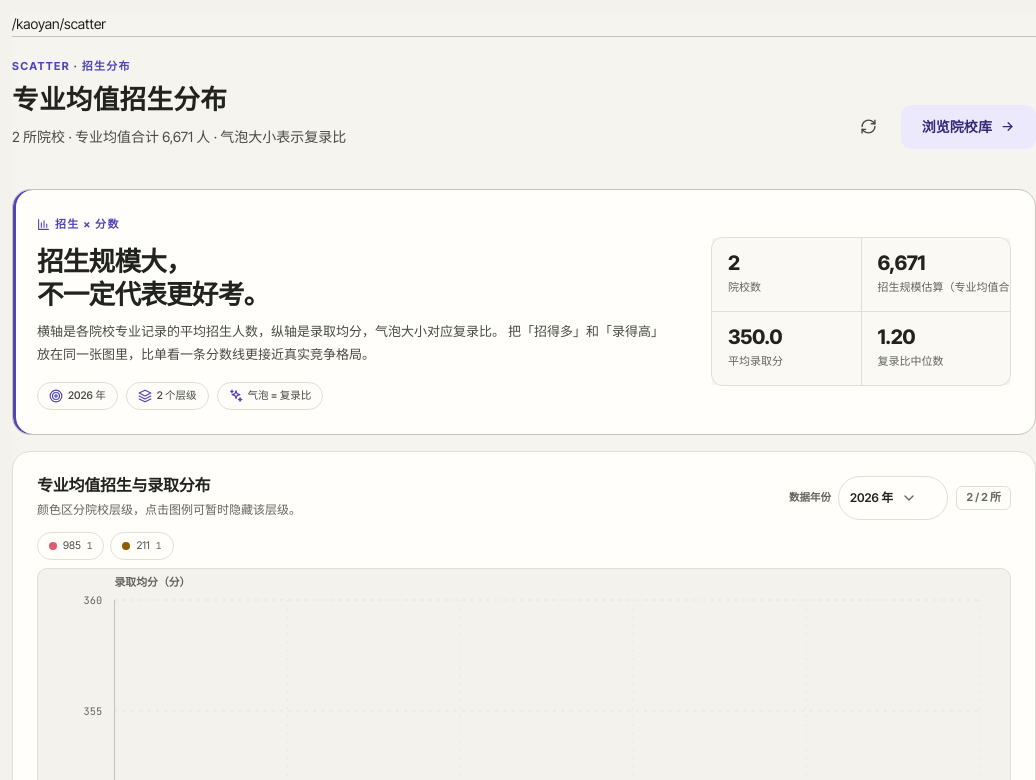
Test case: 散点页统计与明细 › 格式化人数，并在图例筛选后同步统计与明细
Expected: the text "2 所院校 · 专业均值合计 6,671 人 · 气泡大小表示复录比" is shown, [12,125,346,149]
Expected: the text "6,671" is shown, [878,252,925,276]
What coordinates should you click on to do the following:
click the button "211 1"
I would click on:
 (142, 546)
Its box is [110,532,174,560].
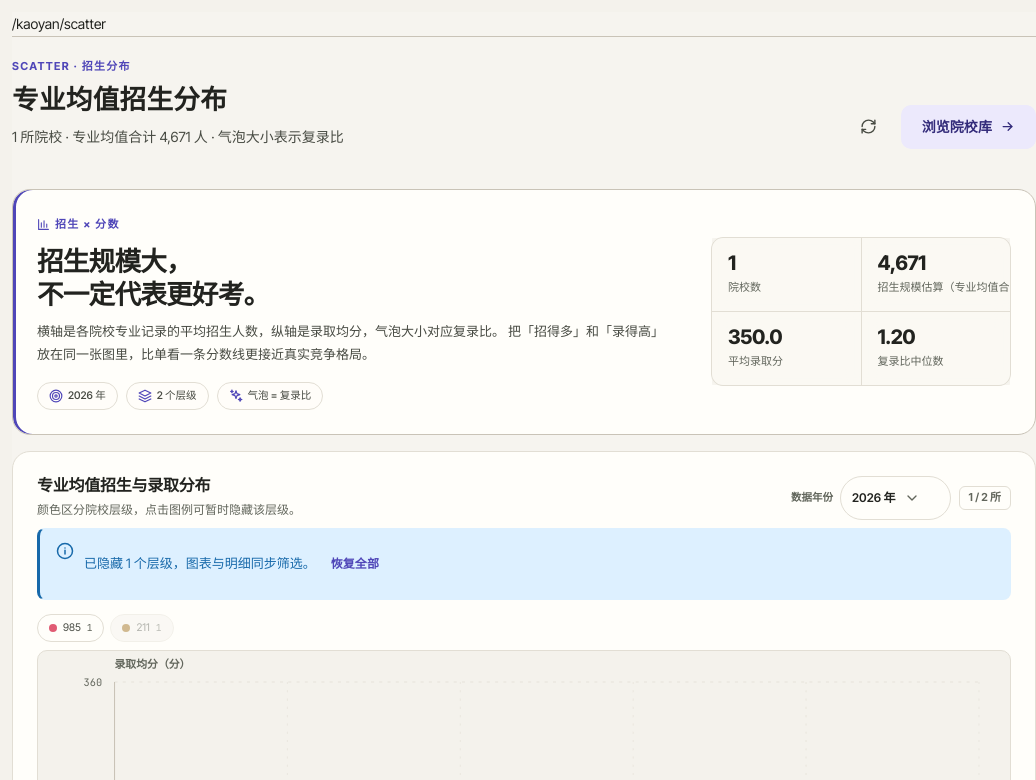
Now the text "1 所院校 · 专业均值合计 4,671 人 · 气泡大小表示复录比" is shown, box [12,125,344,149]
Now the text "4,671" is shown, box [878,252,926,276]
Now the text "1" in the row of "招生规模大，" is shown, box [728,252,736,276]
